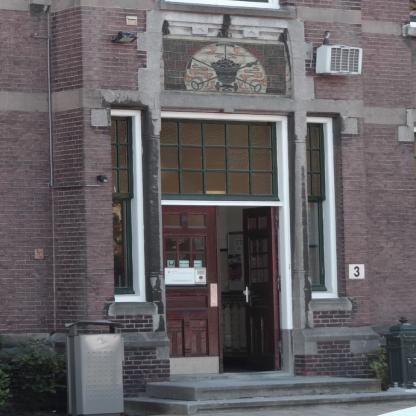door: (242, 209, 278, 362)
lever: (242, 286, 251, 304)
